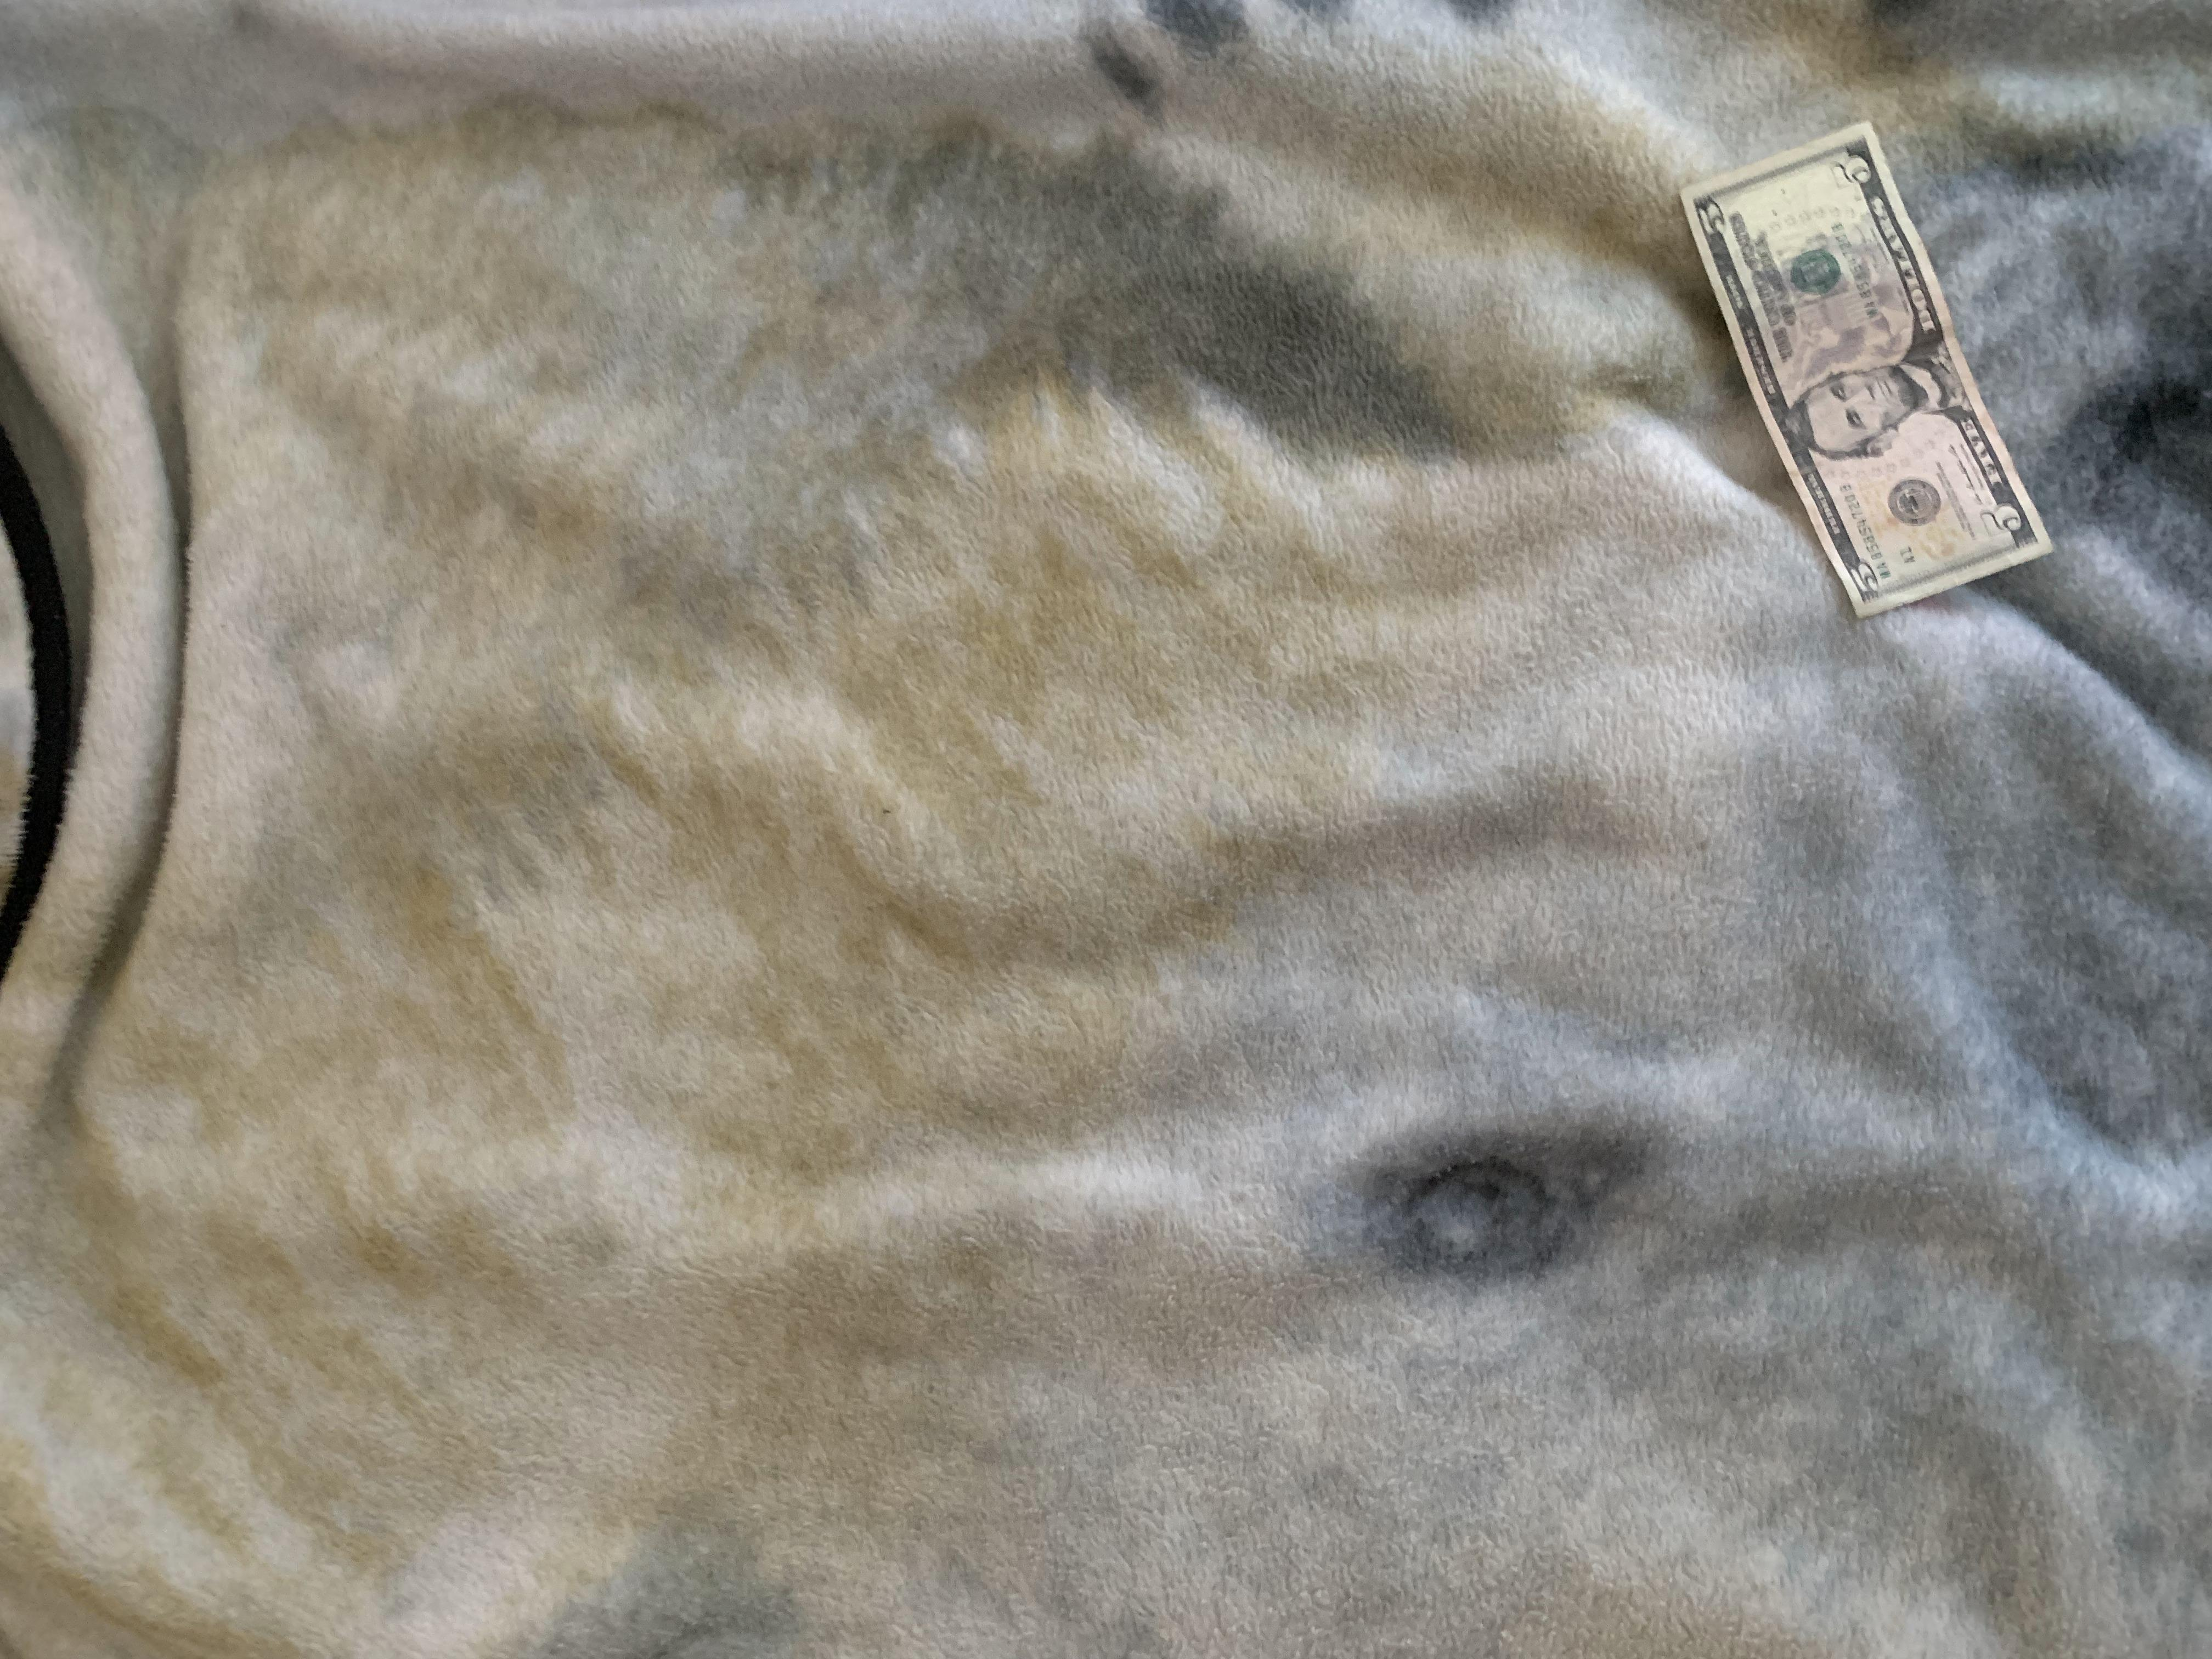FiveBill: (1677, 117, 2054, 622)
